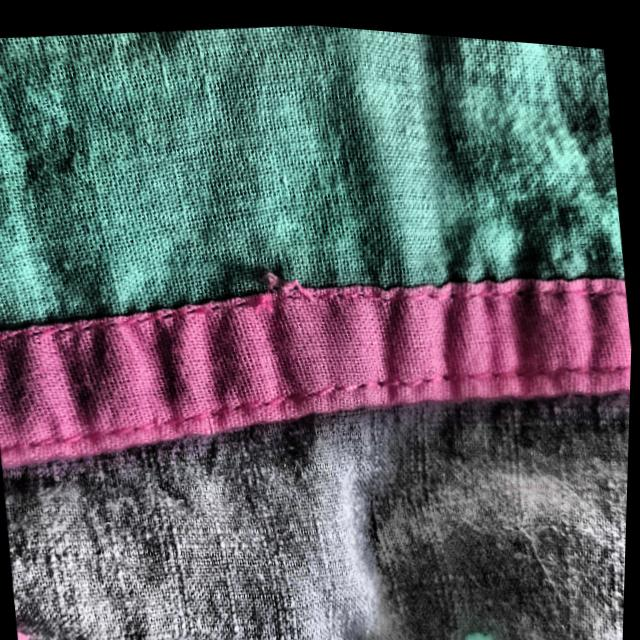Stitch: (220, 177, 385, 331)
